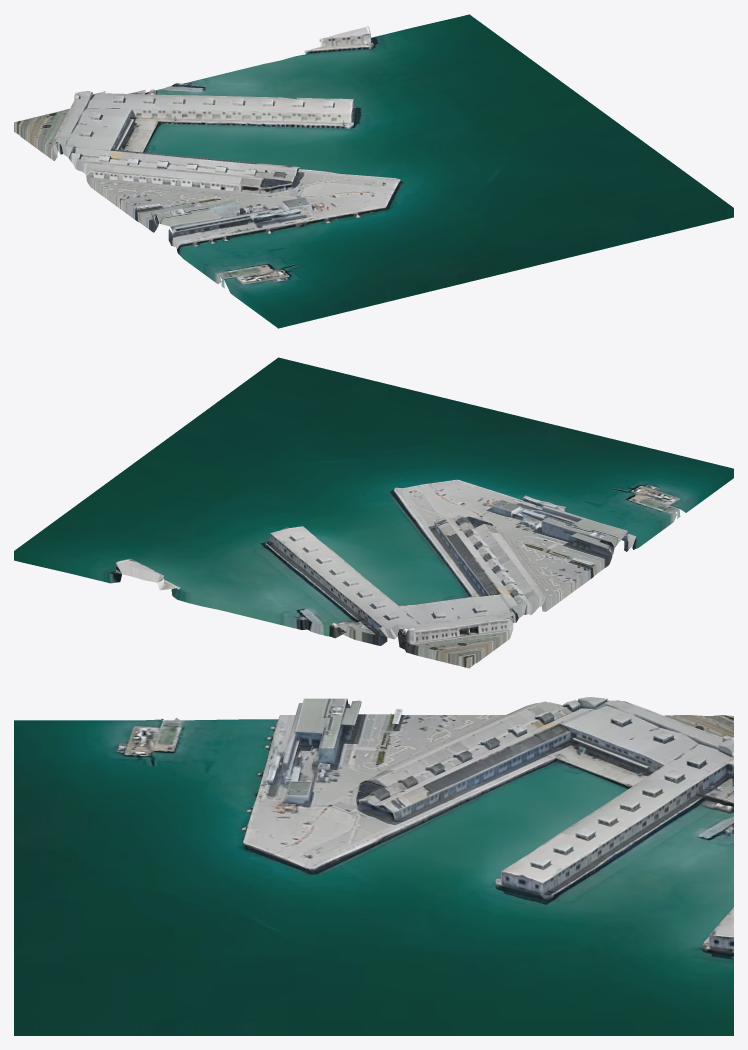
File: z16-10485-25323-h0-yup-uvflip-v3-world.glb
3 renders of one model, top to bottom at view 1: azimuth 30°, elevation 25°; view 2: azimuth 150°, elevation 25°; view 3: azimuth 270°, elevation 25°, orthographic. The views are drawn at different scales.
Size of the model in its own units: 483 by 27.52 by 485.
Materials: 1 (1 with a texture image).
